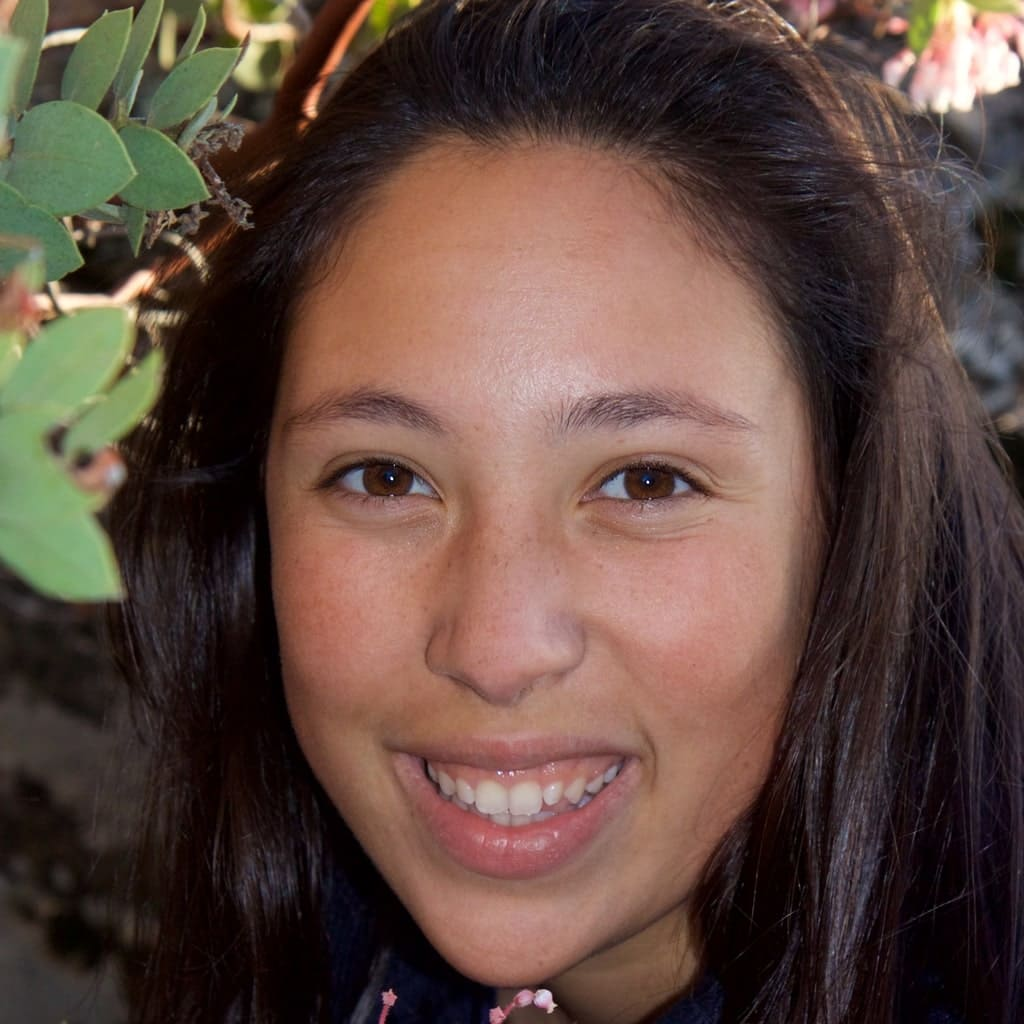without_mask: (278, 240, 803, 896)
